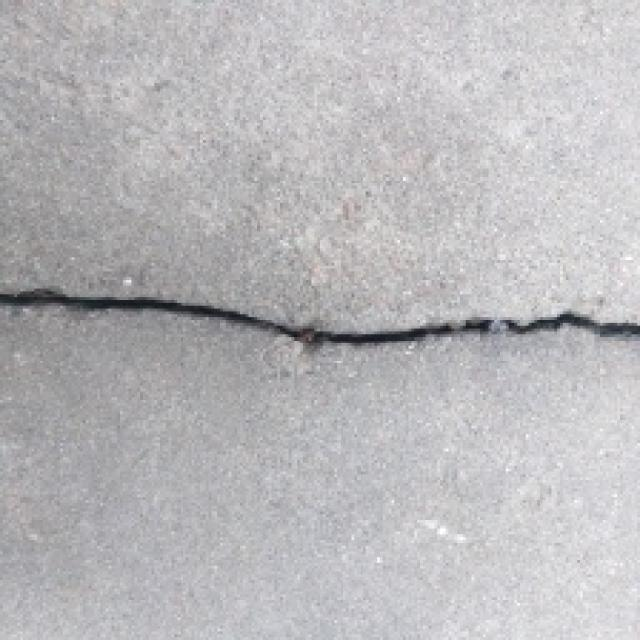crack: (0, 254, 640, 380)
